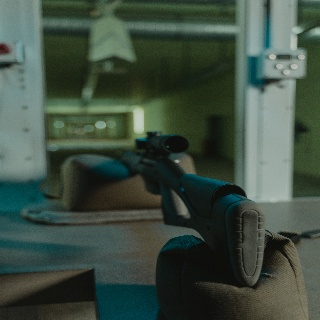rifle: (116, 130, 267, 290)
